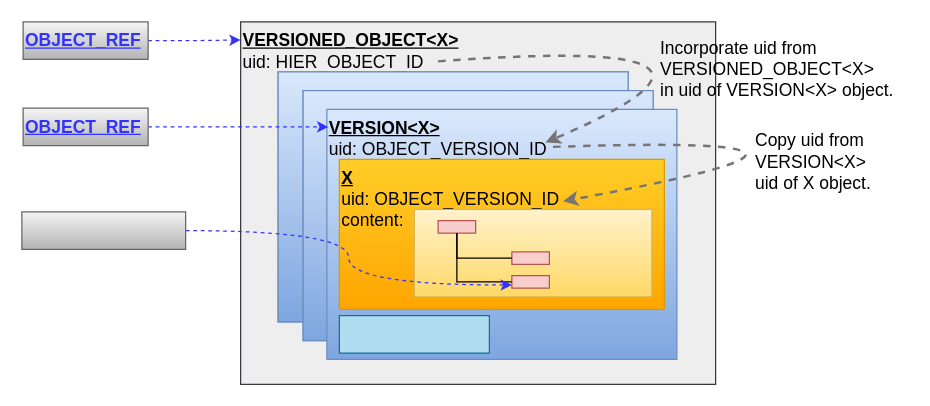
Some shapes in this 930 by 406 pixel diagram are drawn without their labels. Here are the shapes that lost their labels. From the top down, the centre of each, then its label:
At point 103,230: "LOCATABLE_REF".
At point 413,333: "AUDIT_DETAILS".
